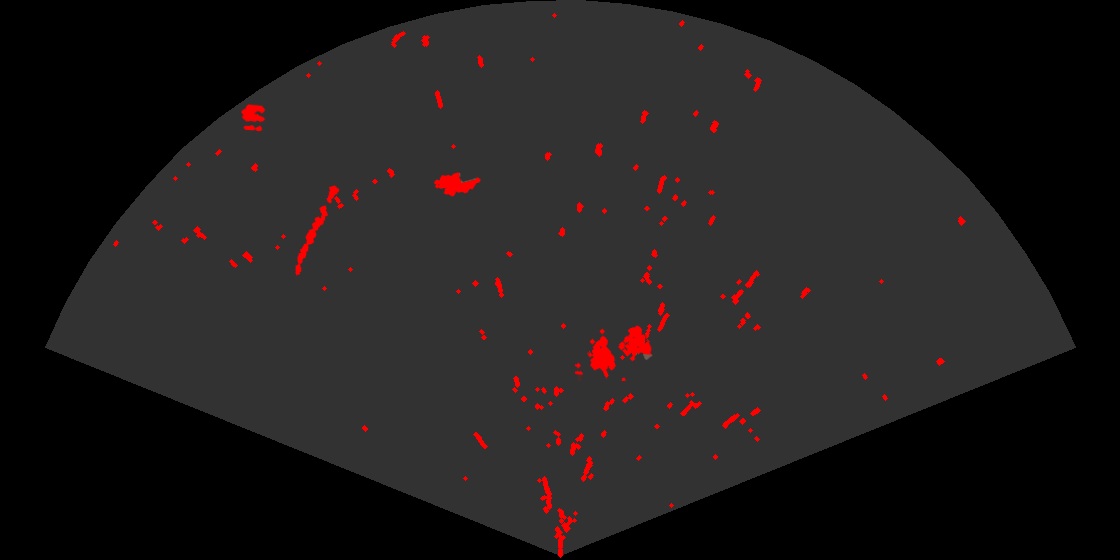AUV: (432, 171, 482, 198)
ball: (240, 102, 267, 133)
cage: (575, 324, 654, 381)
chain: (294, 184, 341, 277)
